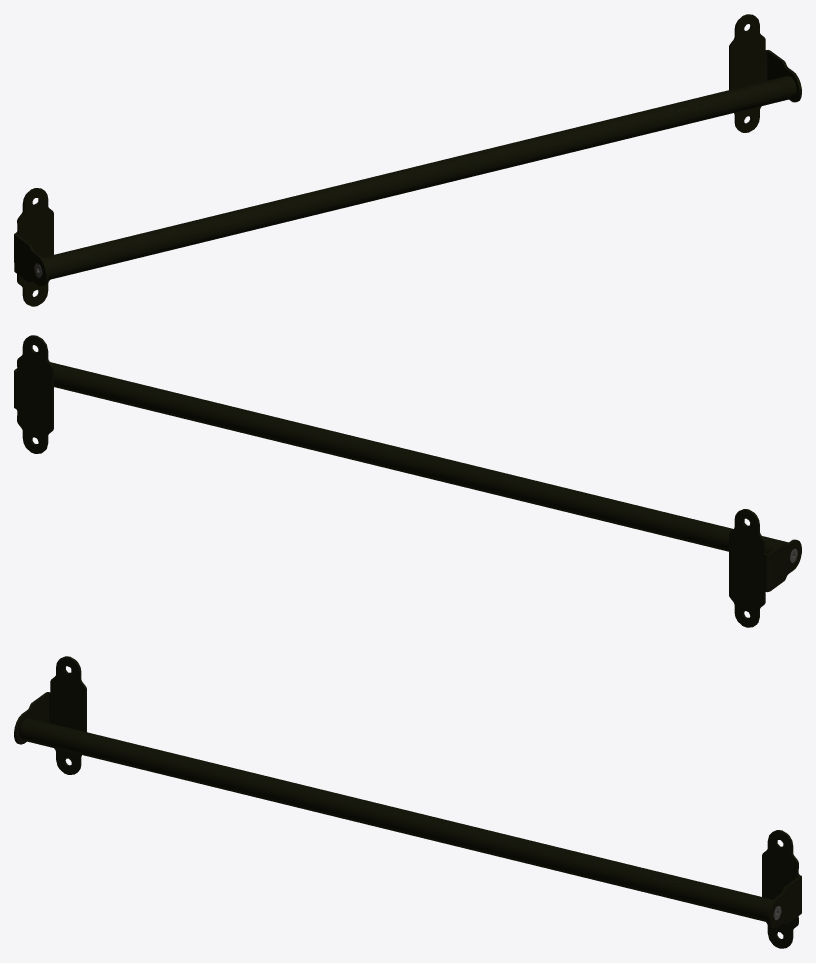
File: hultarp_szyna_00448769.glb
3 views of the same model, one above another, from view 1: azimuth 30°, elevation 25°; view 2: azimuth 150°, elevation 25°; view 3: azimuth 330°, elevation 25° (orthographic).
Visible parts, largest first — view 1: hultarp_szyna_00448769; view 2: hultarp_szyna_00448769; view 3: hultarp_szyna_00448769.
Part boxes in pixels (x1,y1,x2,y2): hultarp_szyna_00448769: [14, 14, 801, 306]; hultarp_szyna_00448769: [14, 335, 801, 627]; hultarp_szyna_00448769: [14, 656, 801, 948].
Bounding box in the file's own units: 0.6 × 0.0891 × 0.046.
Materials: 1 (1 with a texture image).
